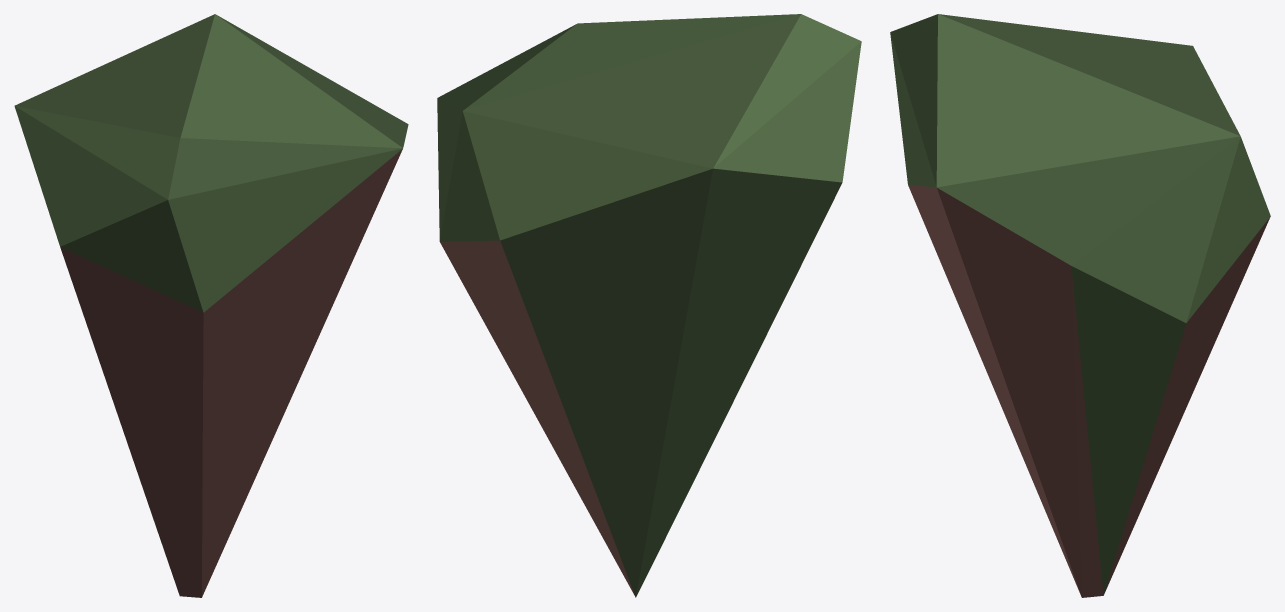
The model's file is PalmTree_3.lod4.glb.
3 views of the same model, side by side, from view 1: azimuth 30°, elevation 25°; view 2: azimuth 150°, elevation 25°; view 3: azimuth 270°, elevation 25° (orthographic).
Parts seen in each view (by area): view 1: PalmTree_3; view 2: PalmTree_3; view 3: PalmTree_3.
Part boxes in pixels (bbox=[...]): PalmTree_3: bbox=[14, 14, 408, 597]; PalmTree_3: bbox=[437, 14, 861, 597]; PalmTree_3: bbox=[890, 14, 1270, 597].
Size of the model in its own units: 2.88 by 3.95 by 2.51.
